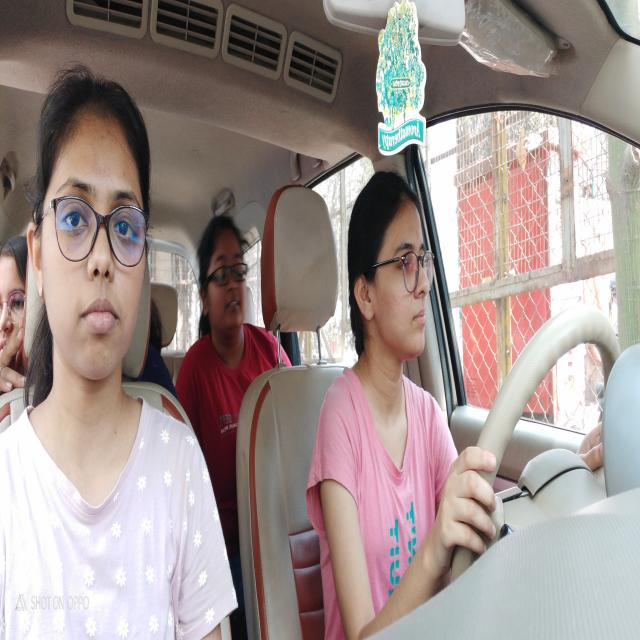person: (44, 103, 145, 388), (358, 190, 431, 360), (199, 220, 255, 346), (0, 237, 27, 356)
